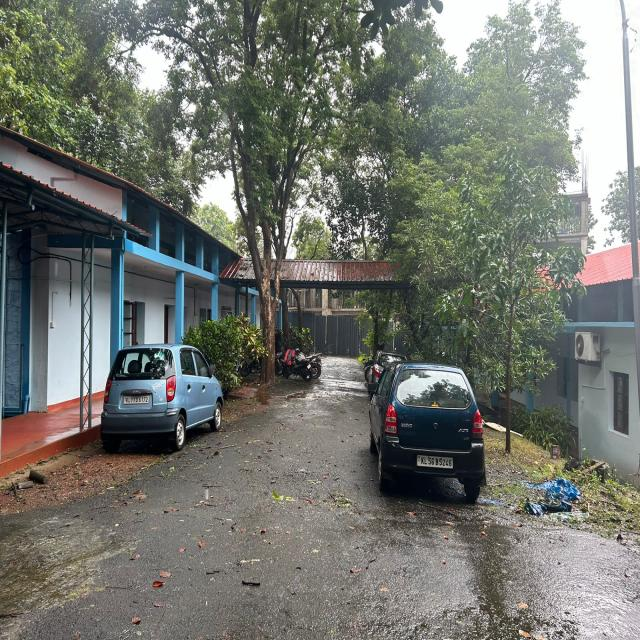car ahead at: (371, 349, 489, 506), (104, 338, 227, 449)
